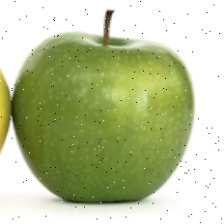apple: (9, 5, 195, 202)
